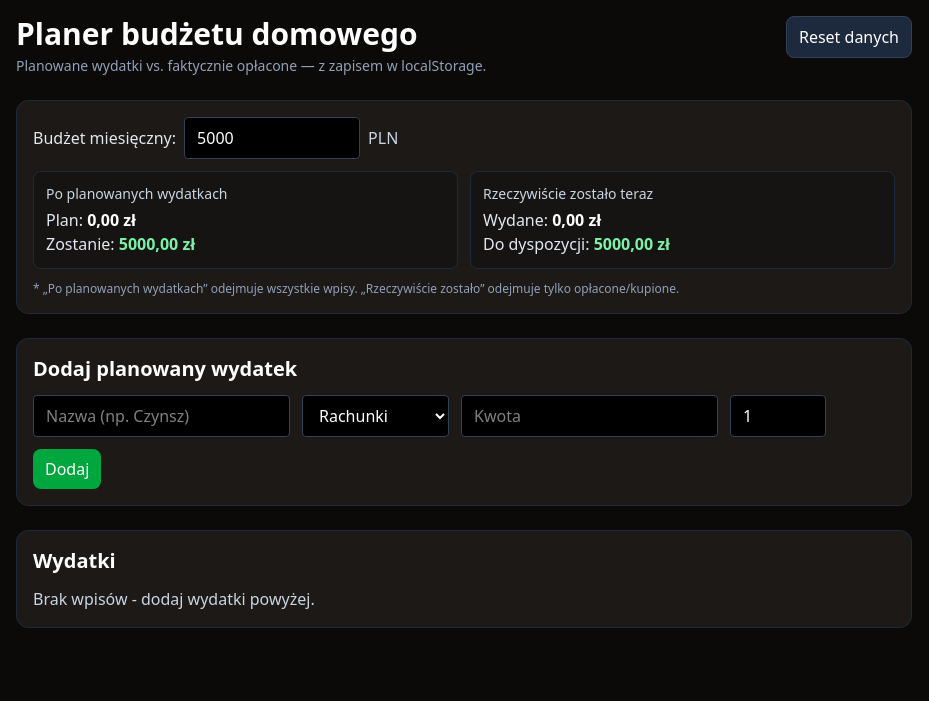
Test: App integration › removes expense from the list
The width and height of the screenshot is (929, 701).
In the field with placeholder "Nazwa (np. Czynsz)": x=162, y=416 [33,395,290,437], type "Internet"
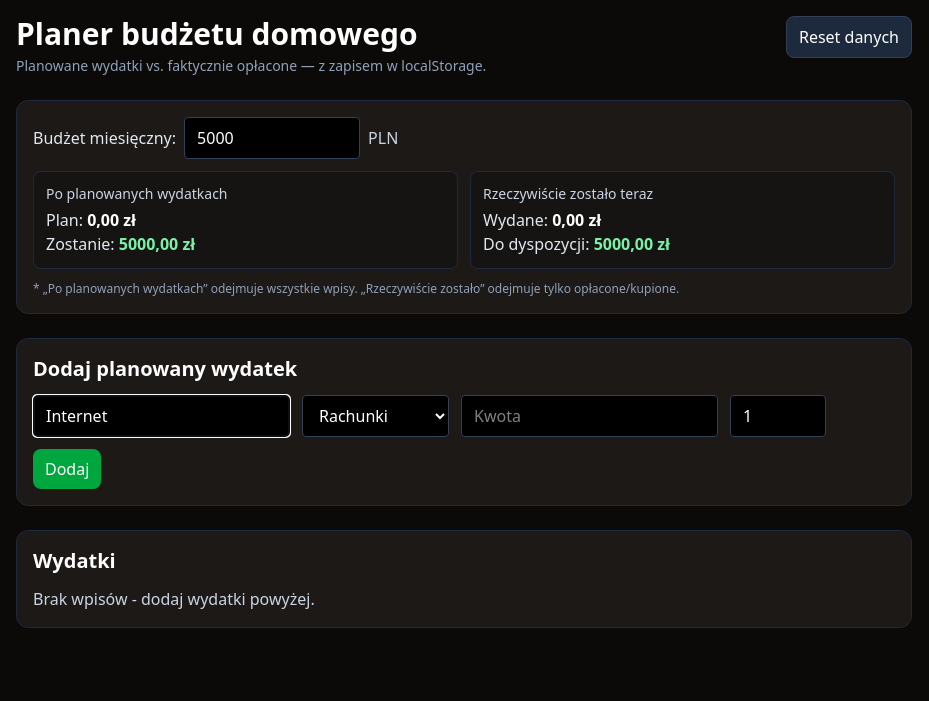
In the number field with placeholder "Kwota": x=590, y=416 [461,395,718,437], type "120"
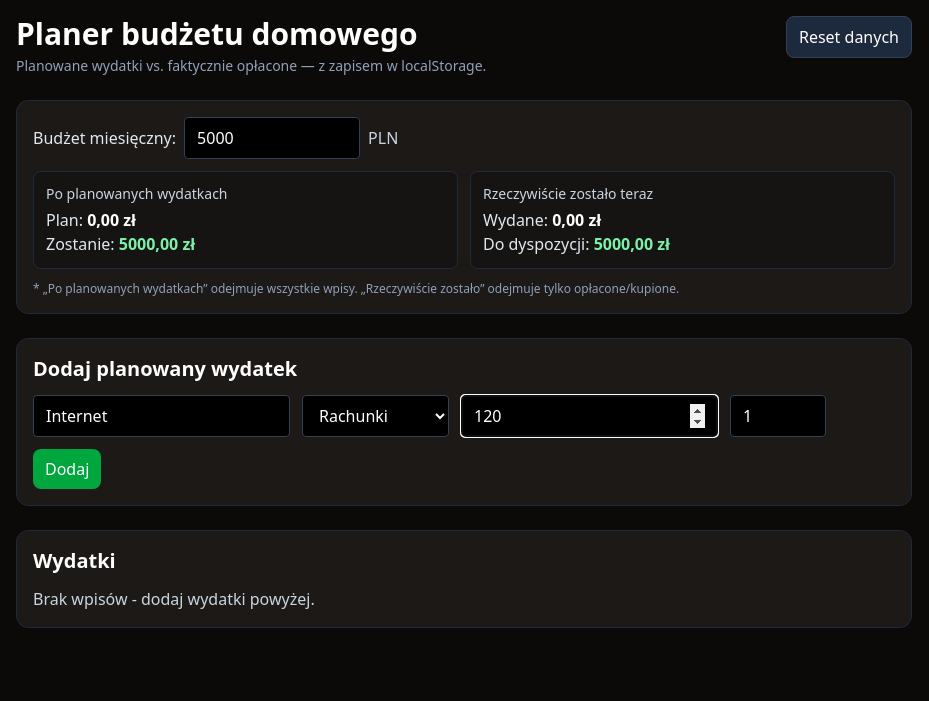
Click the button "Dodaj": x=67, y=469 [33,449,101,489]
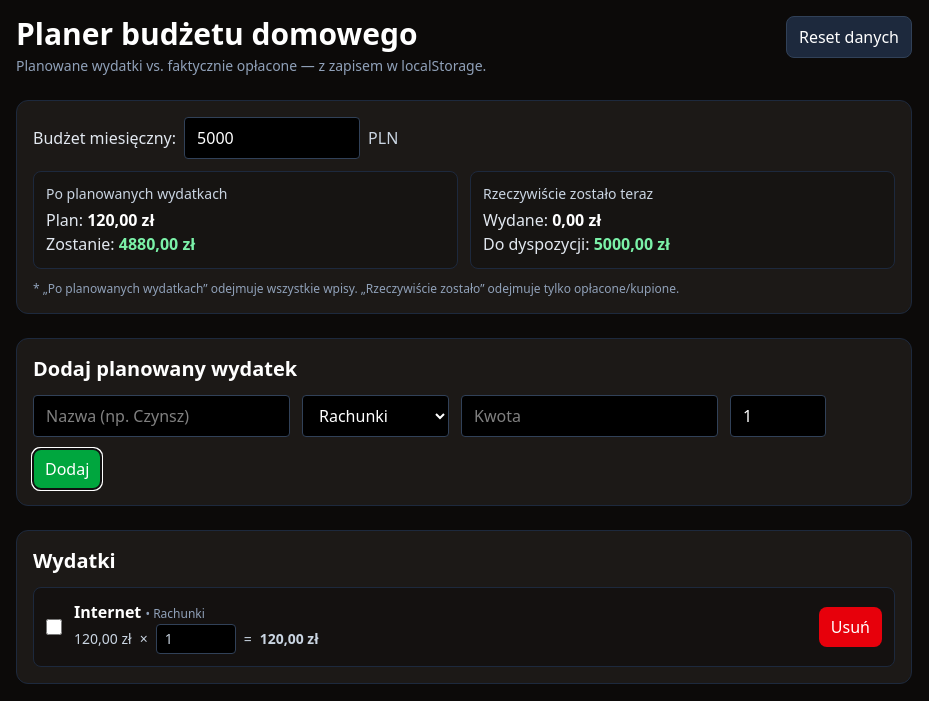
Now the text "Internet" is shown, box [74,601,141,623]
Click the button "Usuń": x=850, y=627 [819,607,882,647]
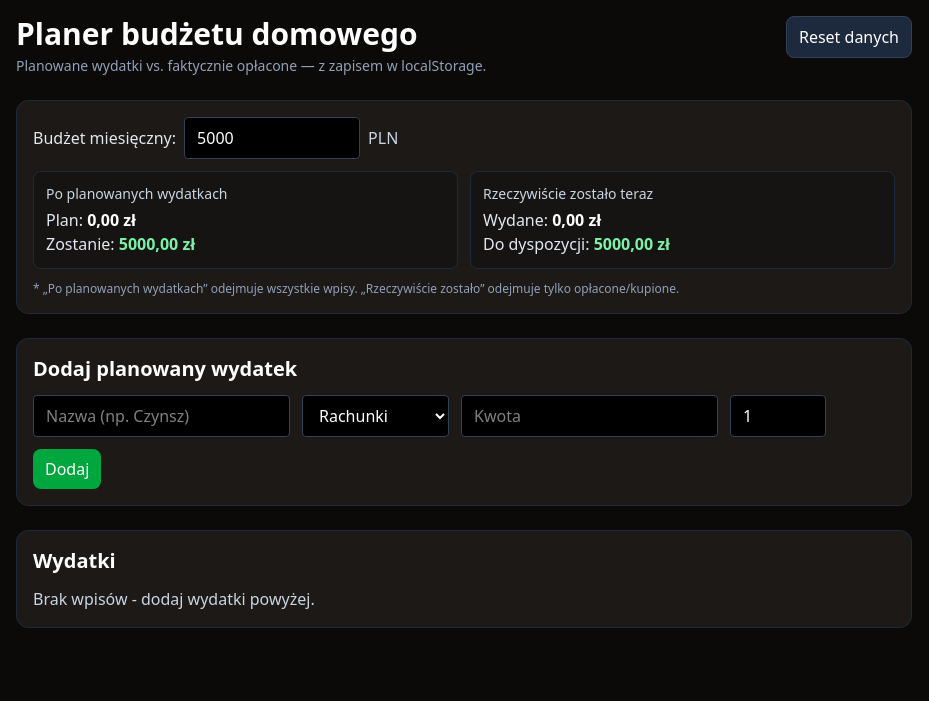
Now the text "Internet" is gone
